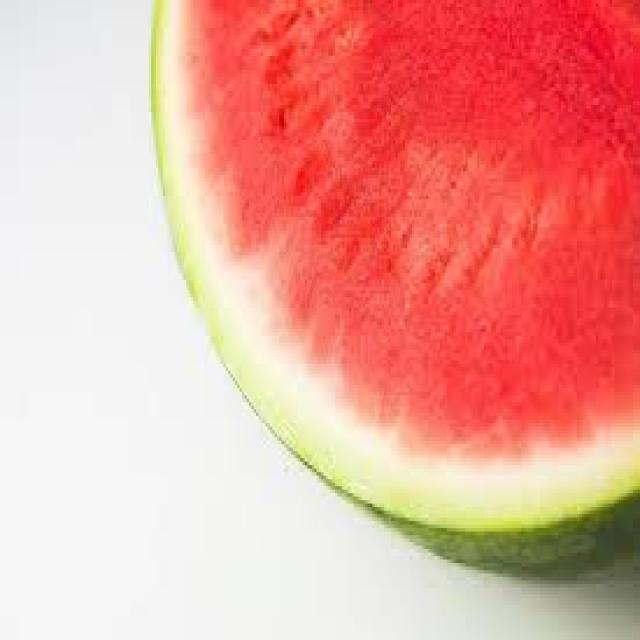watermelon: (147, 0, 638, 570)
